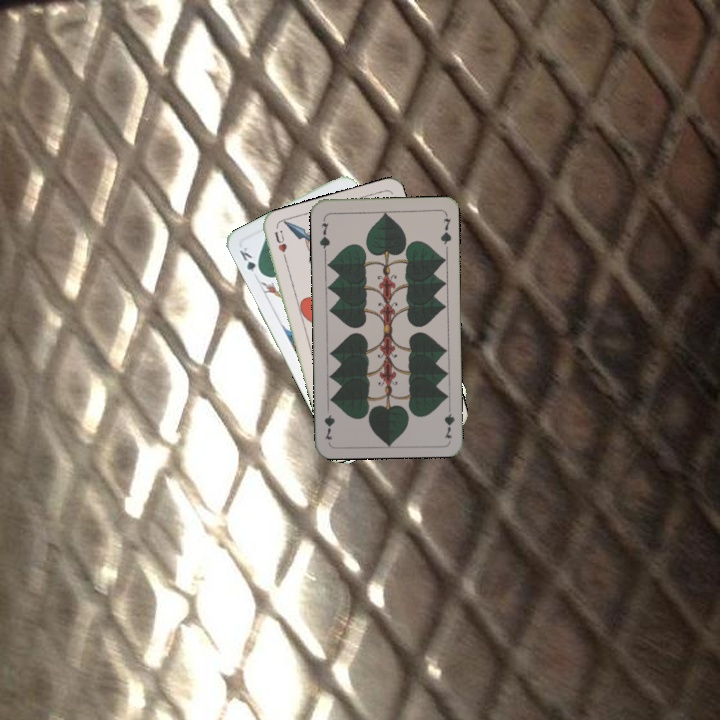G7: (315, 214, 332, 254), (440, 400, 457, 440)
GK: (235, 243, 265, 278)
HU: (271, 226, 290, 265)
